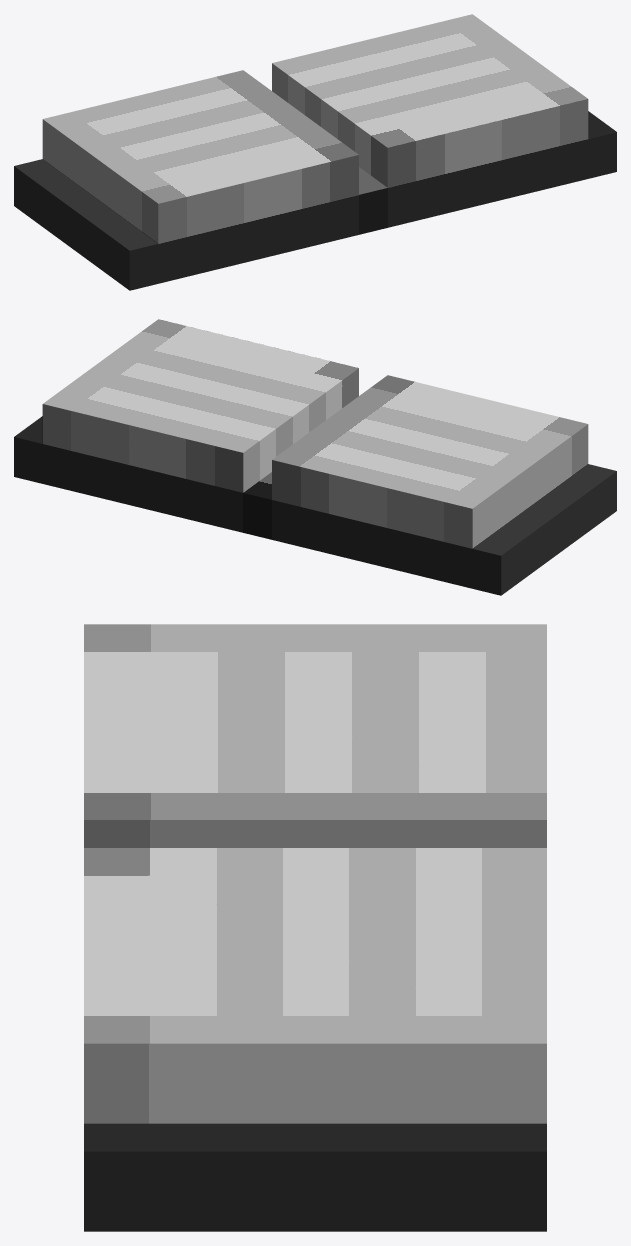
Rendered from book_0x282_03.glb.
The picture shows the model from 3 angles, top to bottom: view 1: azimuth 30°, elevation 25°; view 2: azimuth 150°, elevation 25°; view 3: azimuth 270°, elevation 25°; orthographic projection. The views are drawn at different scales.
Parts seen in each view (by area): view 1: Cube.001; view 2: Cube.001; view 3: Cube.001.
Boxes of the visible parts, box(x1,y1,x2,y2) form: Cube.001: box(14, 14, 616, 290); Cube.001: box(14, 319, 616, 595); Cube.001: box(84, 624, 546, 1231).
Bounding box in the file's own units: 1.06 × 0.1667 × 0.4375.
1 material, 1 textured.
